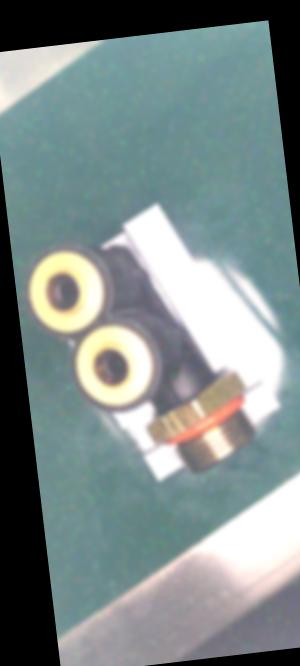craze: (166, 382, 182, 406)
